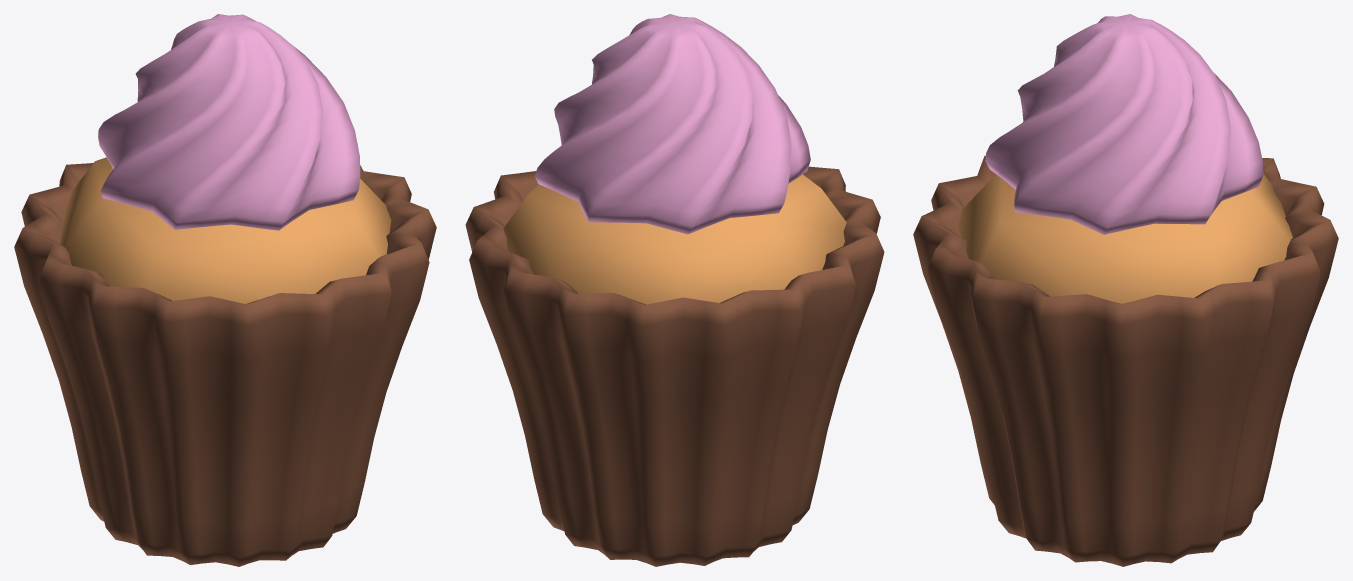
Rendered from SM_muffin_01.glb.
3 views of the same model, side by side, from view 1: azimuth 30°, elevation 25°; view 2: azimuth 150°, elevation 25°; view 3: azimuth 270°, elevation 25° (orthographic).
Parts seen in each view (by area): view 1: SM_muffin_01; view 2: SM_muffin_01; view 3: SM_muffin_01.
Boxes of the visible parts, x1,y1,x2,y2 form: SM_muffin_01: [14, 14, 436, 566]; SM_muffin_01: [465, 14, 884, 566]; SM_muffin_01: [913, 14, 1338, 566].
Size of the model in its own units: 0.1361 by 0.1743 by 0.1361.
Materials: 1 (1 with a texture image).
